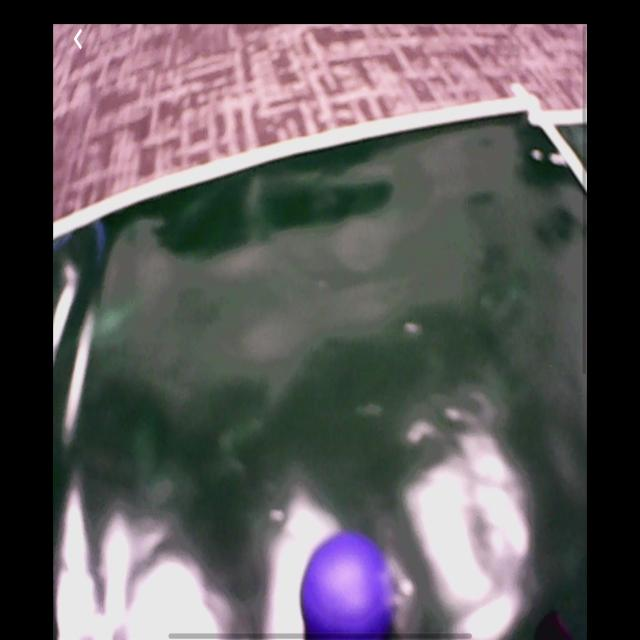ball: (302, 530, 397, 638)
